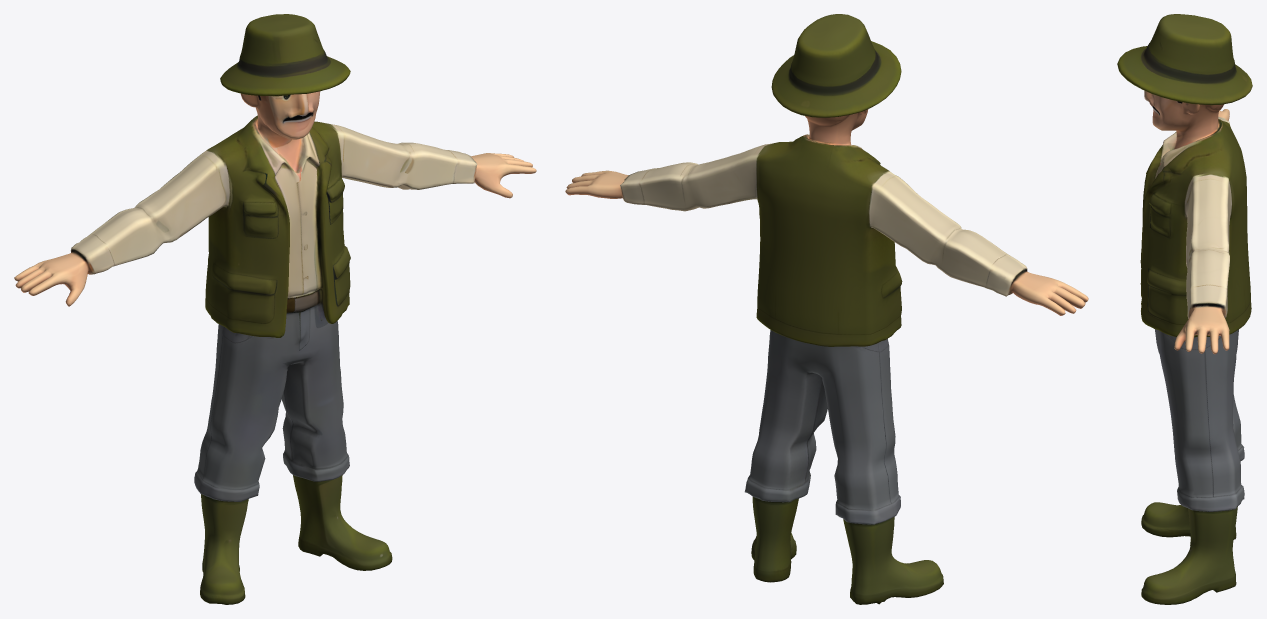
File: cecep.glb
The picture shows the model from 3 angles, left to right: view 1: azimuth 30°, elevation 25°; view 2: azimuth 150°, elevation 25°; view 3: azimuth 270°, elevation 25°; orthographic projection. The views are drawn at different scales.
Parts seen in each view (by area): view 1: model; view 2: model; view 3: model.
Part boxes in pixels (left/top/right/bottom): model: left=14, top=14, right=536, bottom=604; model: left=565, top=14, right=1088, bottom=604; model: left=1117, top=14, right=1252, bottom=604.
Size of the model in its own units: 1.66 by 1.71 by 0.3878.
Materials: 1 (1 with a texture image).
